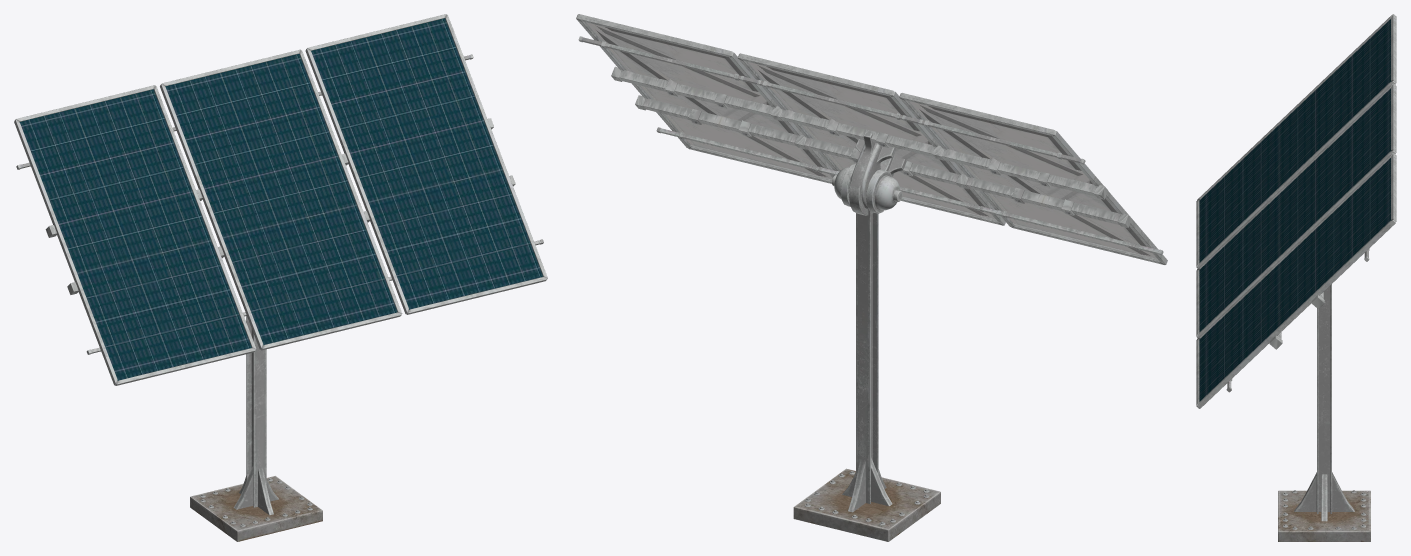
Rendered from Solar-transformed.glb.
The picture shows the model from 3 angles, left to right: view 1: azimuth 30°, elevation 25°; view 2: azimuth 150°, elevation 25°; view 3: azimuth 270°, elevation 25°; orthographic projection. The views are drawn at different scales.
Parts seen in each view (by area): view 1: solar panels.006, solar panels.002; view 2: solar panels.006, solar panels.002; view 3: solar panels.006, solar panels.002.
Part boxes in pixels (x1,y1,x2,y2): solar panels.006: (14, 14, 547, 385); solar panels.002: (190, 316, 322, 541); solar panels.006: (576, 14, 1167, 264); solar panels.002: (793, 132, 940, 541); solar panels.006: (1196, 14, 1396, 408); solar panels.002: (1278, 284, 1370, 541).
Bounding box in the file's own units: 3.12 × 2.74 × 1.22.
Materials: 1 (1 with a texture image).
